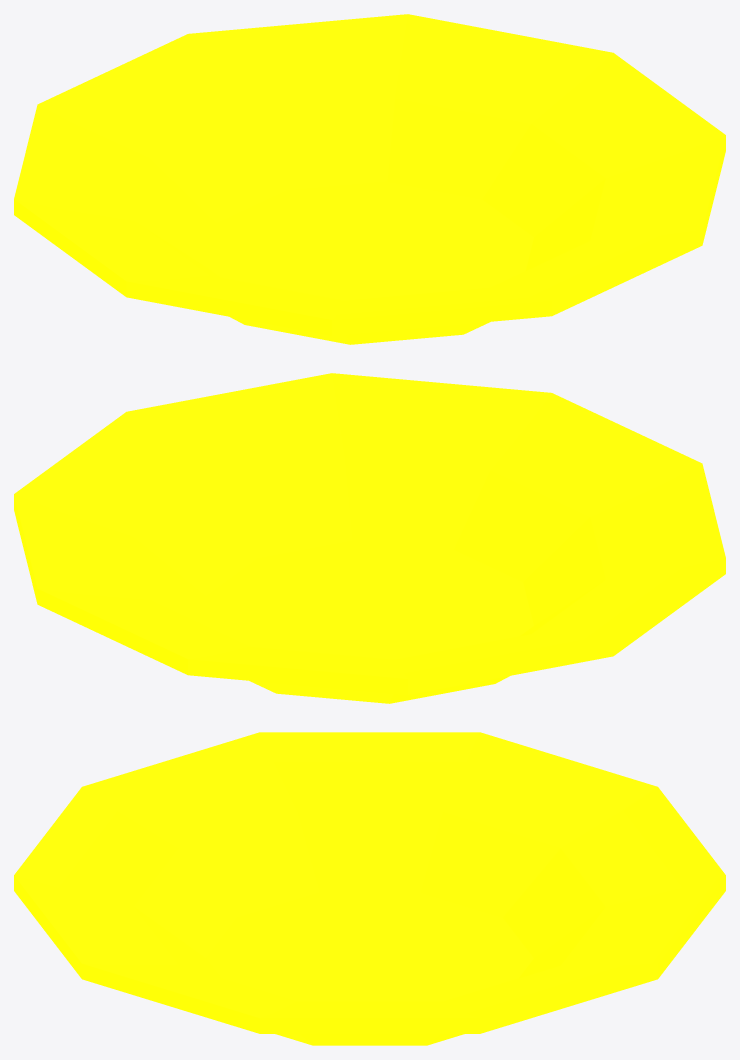
Rendered from plate-soup-christmas.glb.
3 renders of one model, top to bottom at view 1: azimuth 30°, elevation 25°; view 2: azimuth 150°, elevation 25°; view 3: azimuth 270°, elevation 25°, orthographic. The views are drawn at different scales.
Parts seen in each view (by area): view 1: plate_soup_christmas; view 2: plate_soup_christmas; view 3: plate_soup_christmas.
Part boxes in pixels (x1,y1,x2,y2): plate_soup_christmas: [14, 14, 725, 344]; plate_soup_christmas: [14, 373, 725, 703]; plate_soup_christmas: [14, 732, 725, 1045].
Size of the model in its own units: 0.2599 by 0.041 by 0.2733.
1 material, 1 textured.
